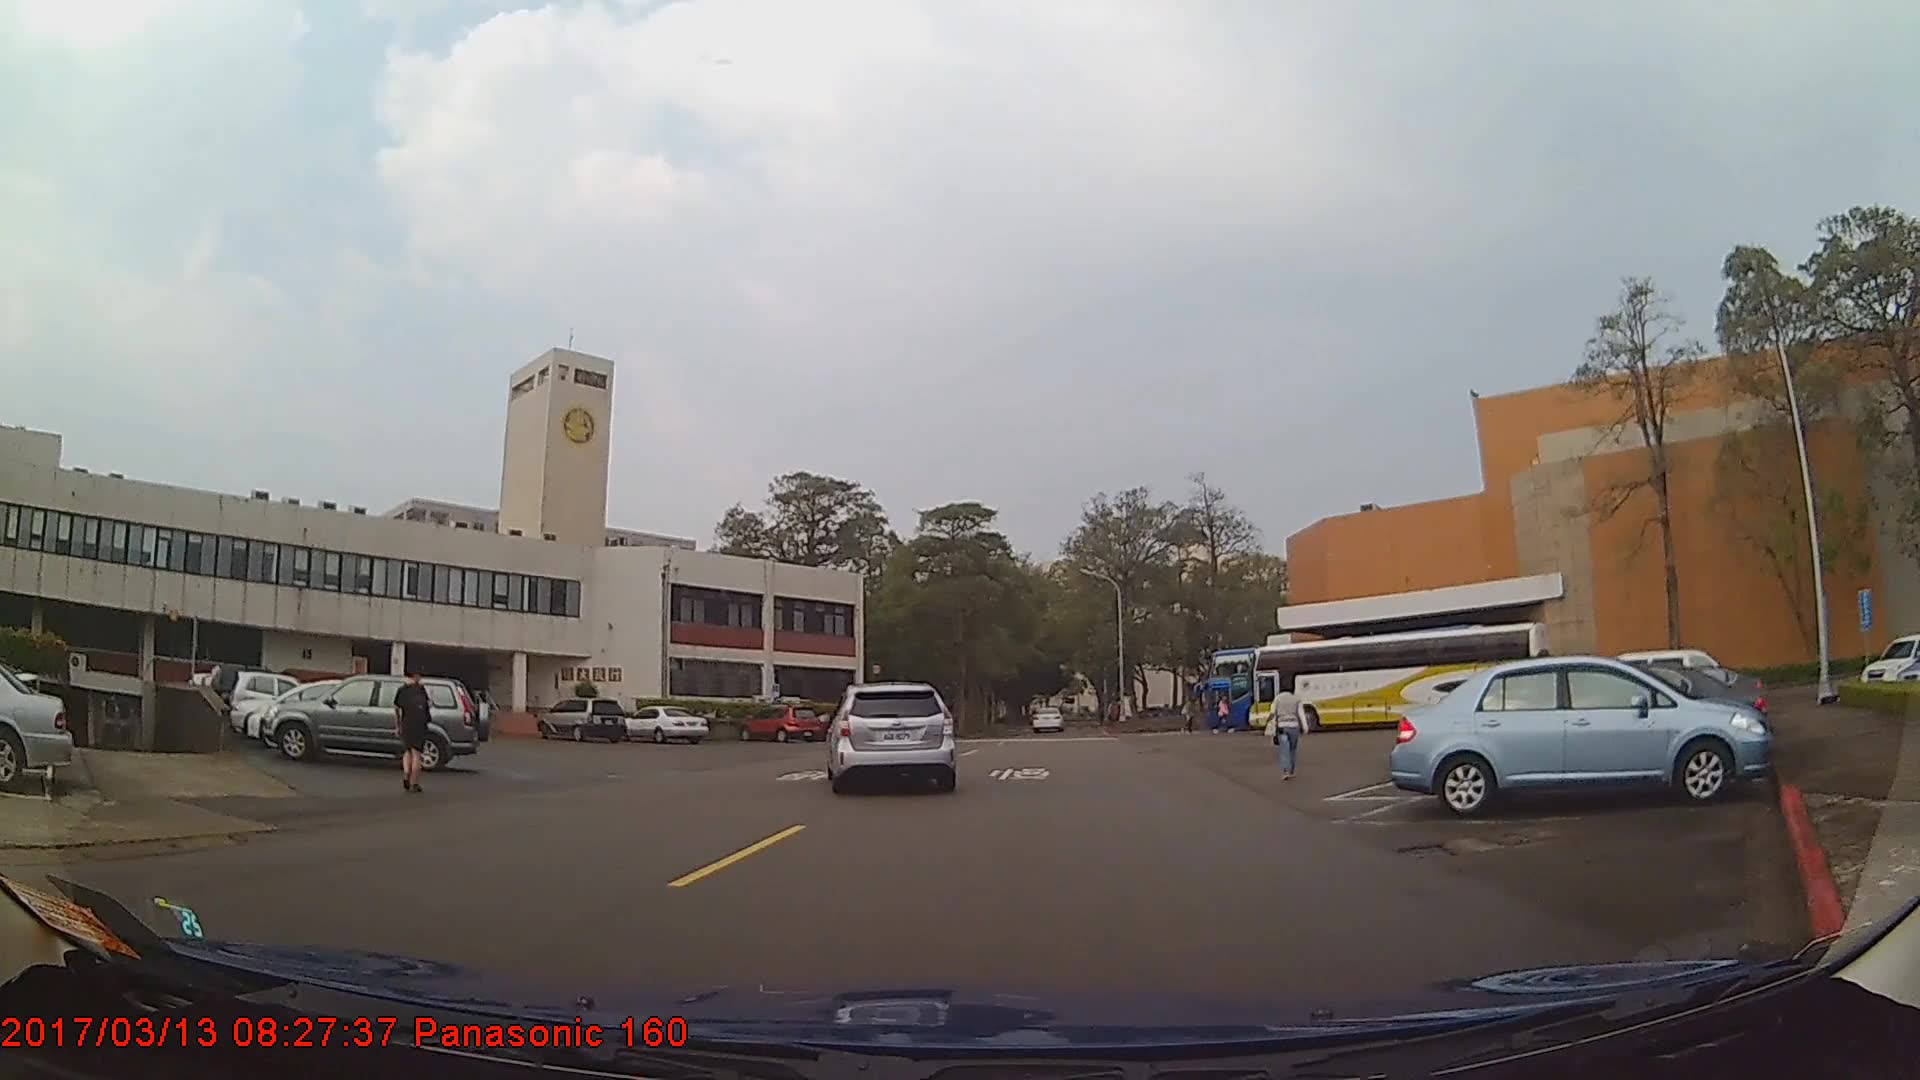pedestrian: (390, 658, 437, 788), (1268, 673, 1306, 780)
vehicle: (1387, 653, 1770, 810), (1245, 619, 1550, 734), (268, 671, 491, 769), (1202, 643, 1441, 732), (829, 680, 953, 793), (0, 655, 72, 792), (228, 663, 328, 722), (532, 694, 625, 742), (619, 704, 707, 744), (740, 703, 822, 743), (1028, 697, 1059, 728)
